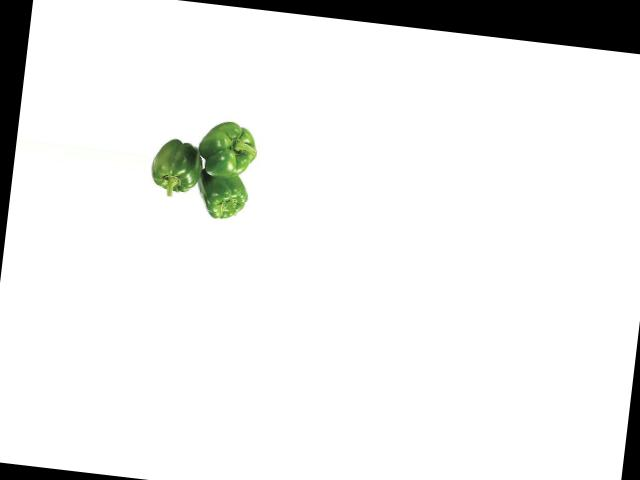bell_pepper: (195, 113, 265, 183)
